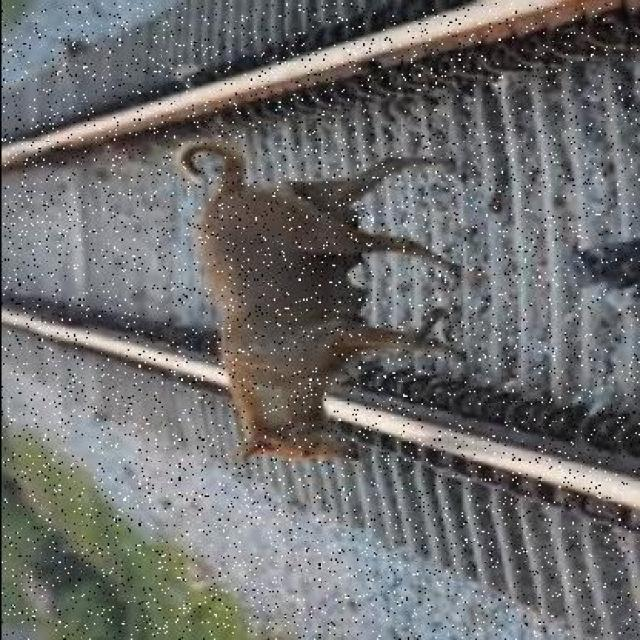danger: (148, 132, 497, 462)
rail: (0, 3, 640, 639)
